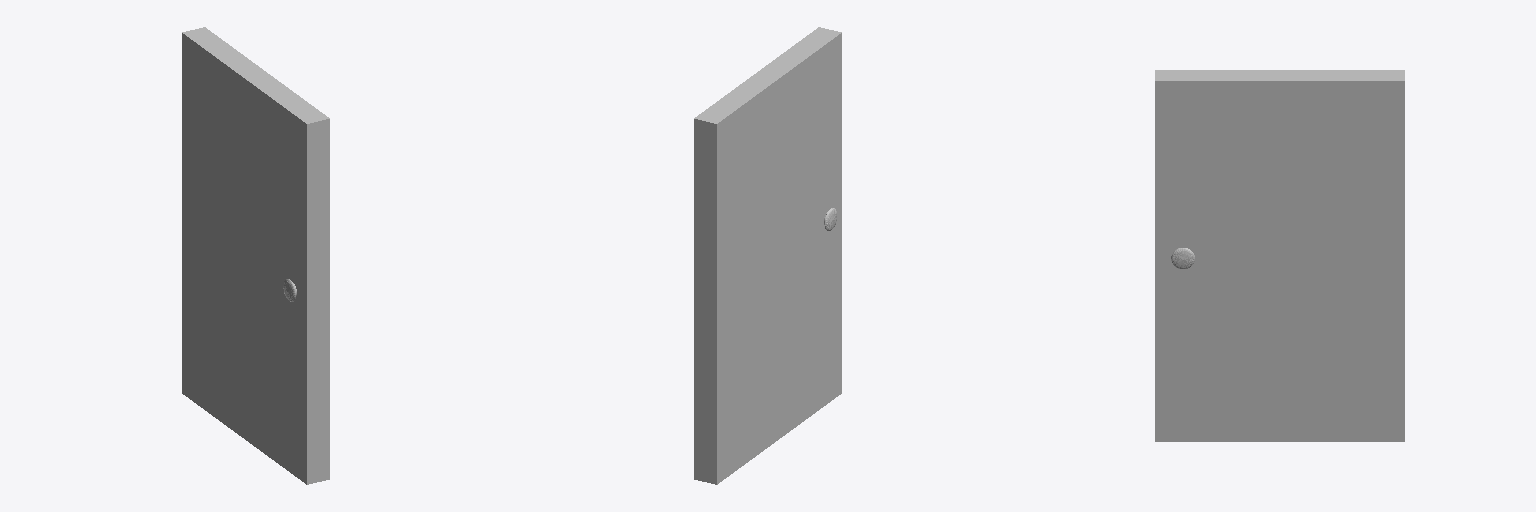
File: rusty door.obj
3 renders of one model, left to right at view 1: azimuth 30°, elevation 25°; view 2: azimuth 150°, elevation 25°; view 3: azimuth 270°, elevation 25°, orthographic.
Parts seen in each view (by area): view 1: Cylinder; view 2: Cylinder; view 3: Cylinder.
Boxes of the visible parts, x1=… form: Cylinder: x1=182, y1=27, x2=329, y2=484; Cylinder: x1=694, y1=27, x2=841, y2=484; Cylinder: x1=1155, y1=70, x2=1404, y2=441.
Size of the model in its own units: 0.3602 by 3.61 by 2.27.